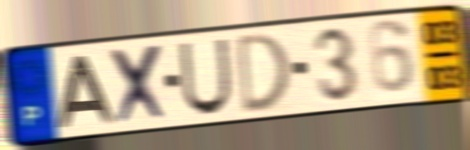3: (311, 24, 361, 106)
6: (368, 16, 417, 104)
A: (56, 54, 119, 130)
D: (234, 29, 292, 118)
U: (177, 36, 234, 119)
X: (108, 41, 171, 128)
